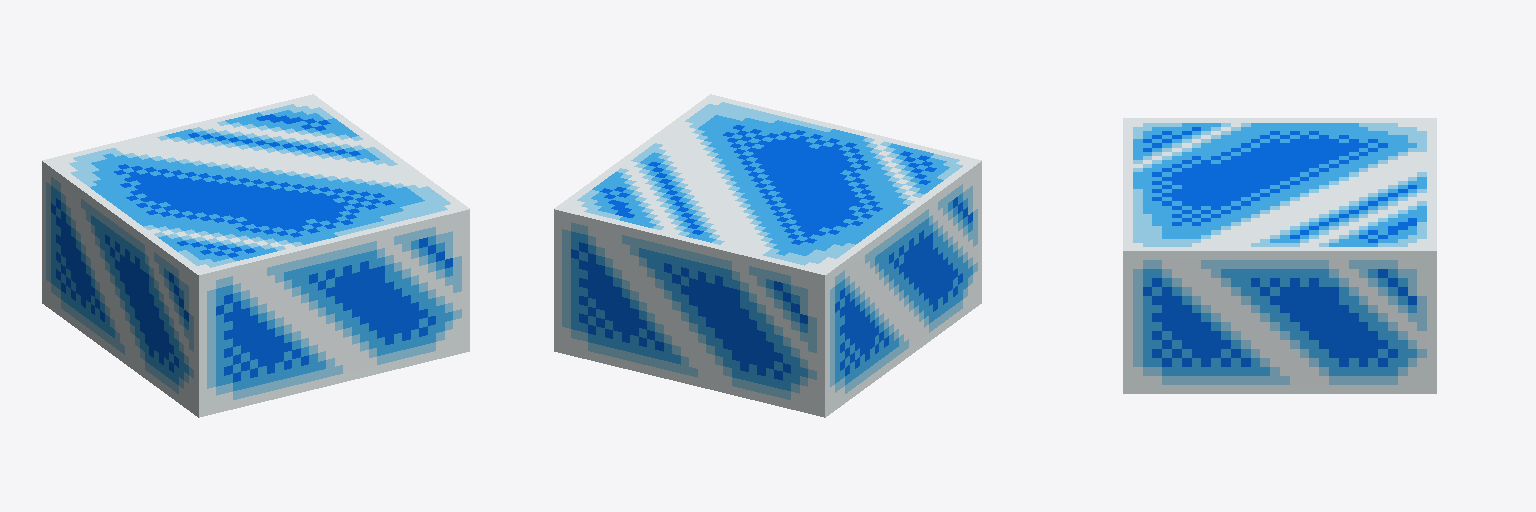
The picture shows the model from 3 angles: view 1: azimuth 30°, elevation 25°; view 2: azimuth 150°, elevation 25°; view 3: azimuth 270°, elevation 25°; orthographic projection.
Visible parts, largest first — view 1: IceTile; view 2: IceTile; view 3: IceTile.
Part boxes in pixels (left/top/right/bottom): IceTile: left=42, top=94, right=469, bottom=417; IceTile: left=554, top=94, right=981, bottom=417; IceTile: left=1123, top=118, right=1436, bottom=393.
Size of the model in its own units: 1 by 0.5 by 1.
Materials: 1 (1 with a texture image).